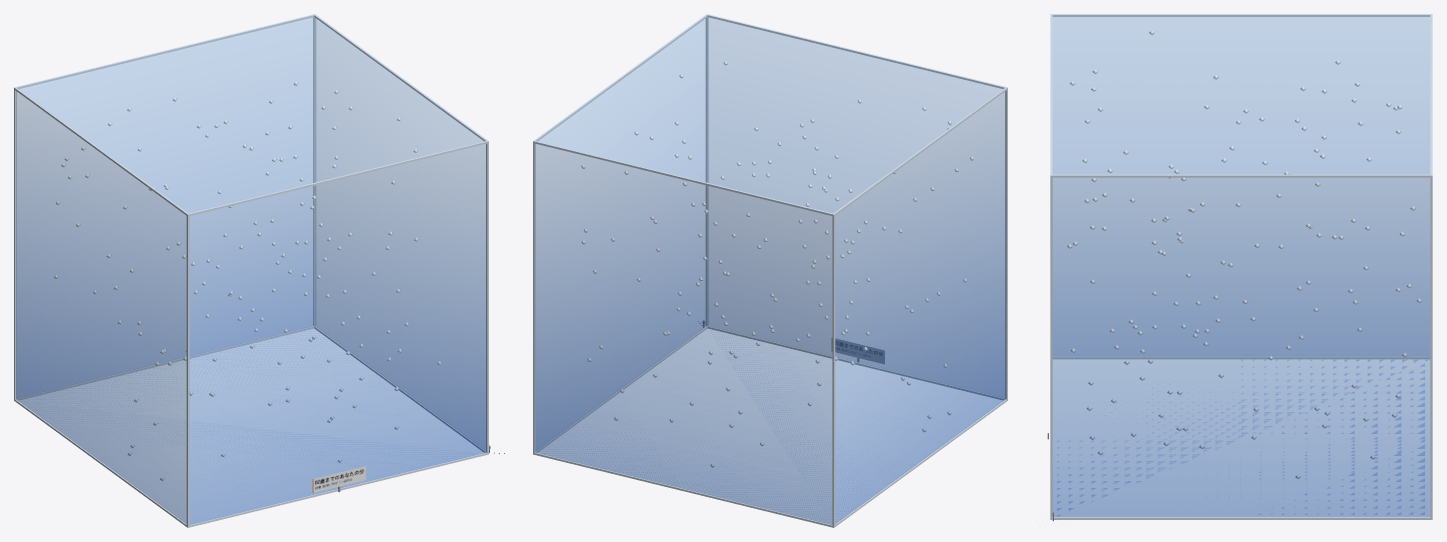
File: cube_life_82.glb
The picture shows the model from 3 angles, left to right: view 1: azimuth 30°, elevation 25°; view 2: azimuth 150°, elevation 25°; view 3: azimuth 270°, elevation 25°; orthographic projection. The views are drawn at different scales.
Parts seen in each view (by area): view 1: co2, edge, dots, label; view 2: co2, edge, dots, label; view 3: co2, edge, dots.
Boxes of the visible parts, x1,y1,x2,y2 form: co2: (16,15,486,524); edge: (14,14,488,527); dots: (54,81,441,480); label: (312,466,365,492); co2: (535,15,1005,524); edge: (533,14,1007,527); dots: (581,61,973,467); label: (835,339,884,363); co2: (1051,15,1430,516); edge: (1050,14,1432,519); dots: (1067,30,1421,479).
Bounding box in the file's own units: 70.91 × 67.15 × 70.01.
Materials: 8 (3 with a texture image).
